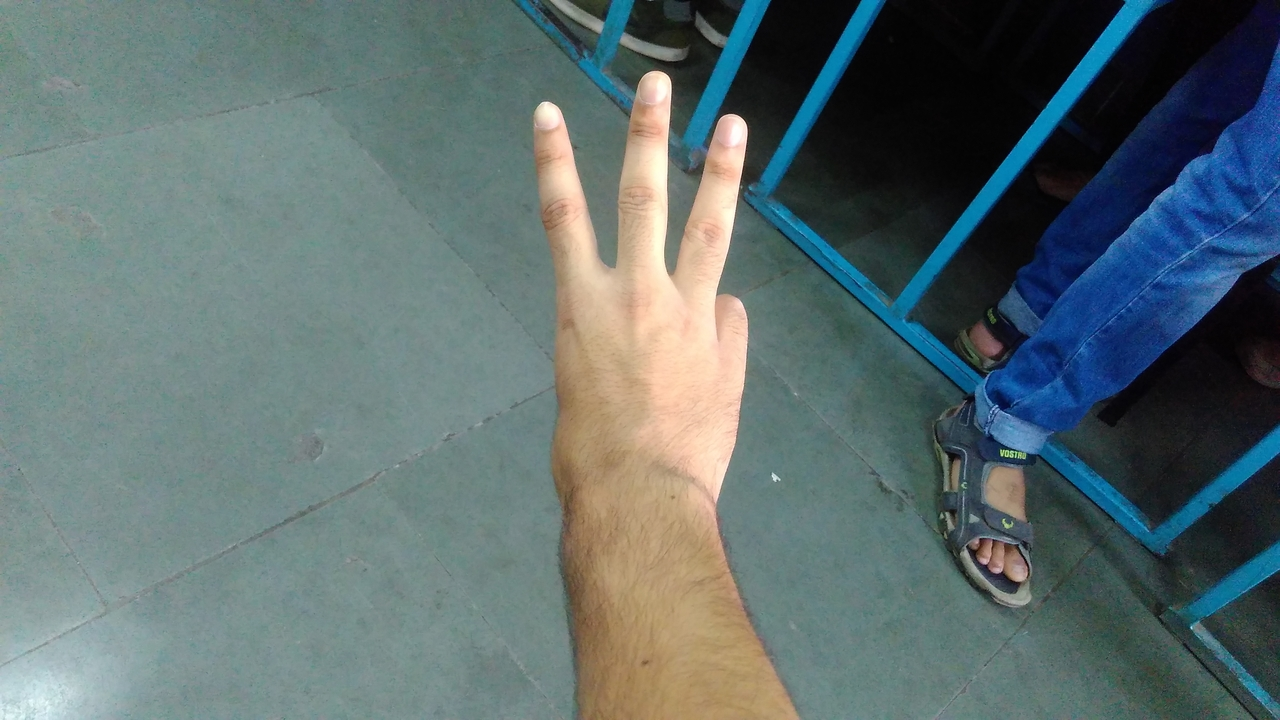fingertip: (698, 104, 760, 158), (624, 60, 678, 114), (522, 86, 574, 138)
